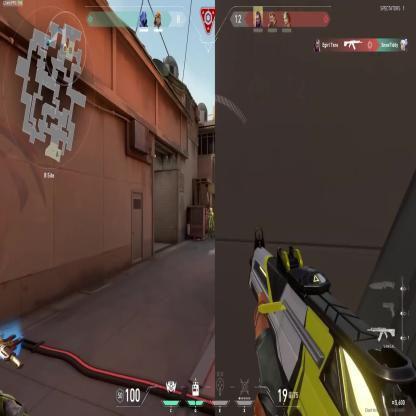enemy: (208, 206, 215, 239)
enemy_head: (210, 208, 213, 212)
